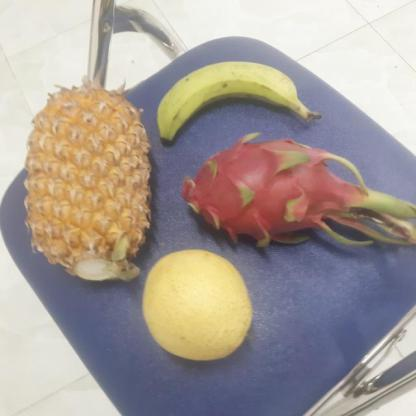banana: (153, 61, 304, 141)
pear: (140, 249, 254, 361)
pineapple: (21, 80, 152, 286)
pitaya: (168, 134, 349, 250)
